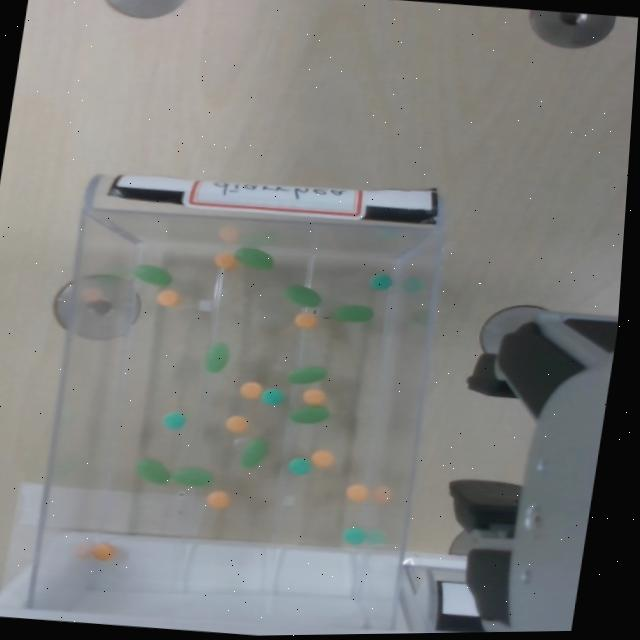famodine: (159, 411, 187, 429), (258, 387, 283, 405), (367, 273, 392, 291), (341, 526, 366, 544), (340, 527, 364, 545), (286, 457, 310, 475), (286, 457, 309, 475), (161, 412, 184, 429), (260, 388, 283, 405), (368, 274, 390, 289)
otillen_tab: (130, 457, 171, 485), (130, 262, 172, 287), (281, 283, 322, 308), (286, 404, 331, 426), (232, 246, 273, 270), (283, 363, 326, 385), (330, 302, 373, 324), (168, 467, 212, 488), (201, 341, 229, 373), (238, 437, 266, 469), (134, 458, 168, 483), (131, 264, 169, 286), (232, 247, 271, 268), (283, 285, 319, 307), (170, 467, 210, 486), (239, 438, 265, 467), (288, 405, 327, 423), (286, 365, 325, 383), (203, 343, 227, 372), (331, 304, 371, 321)
samsung_octylonium_tab: (308, 449, 335, 469), (224, 413, 248, 433), (293, 312, 319, 330), (89, 542, 115, 560), (238, 381, 262, 400), (90, 542, 114, 561), (204, 490, 229, 508), (308, 449, 333, 467), (343, 483, 368, 501), (302, 386, 325, 405), (205, 489, 228, 508), (343, 483, 367, 501), (155, 289, 180, 306), (300, 387, 325, 404), (155, 289, 179, 306), (213, 252, 237, 269), (292, 311, 317, 327), (238, 381, 261, 398), (224, 415, 246, 432), (213, 252, 233, 268)
